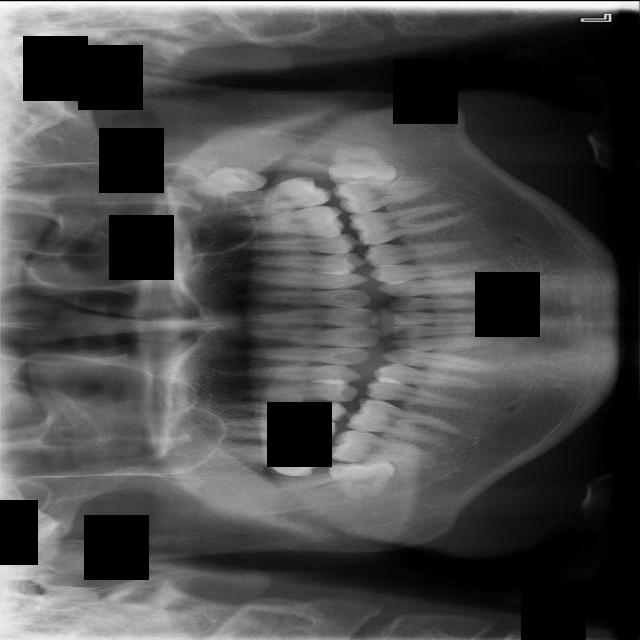73: (569, 34, 579, 40)
BioHorizons Implant: (215, 171, 334, 222)
BioLife Implant: (198, 165, 268, 193)
Biomet 3i Implant: (325, 139, 400, 193)
Blue Sky Bio Implant: (332, 178, 438, 214)
Caries: (217, 443, 331, 478)
Implant: (329, 428, 436, 464)
Keystone Dental Implant: (328, 455, 398, 503)
